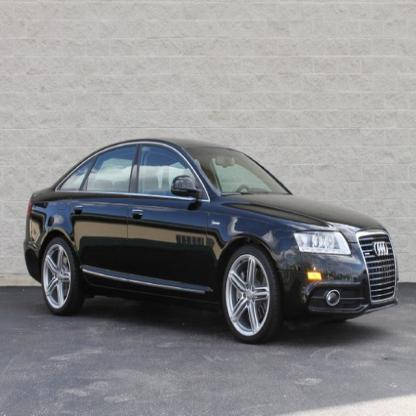Vehicle: (25, 139, 401, 346)
